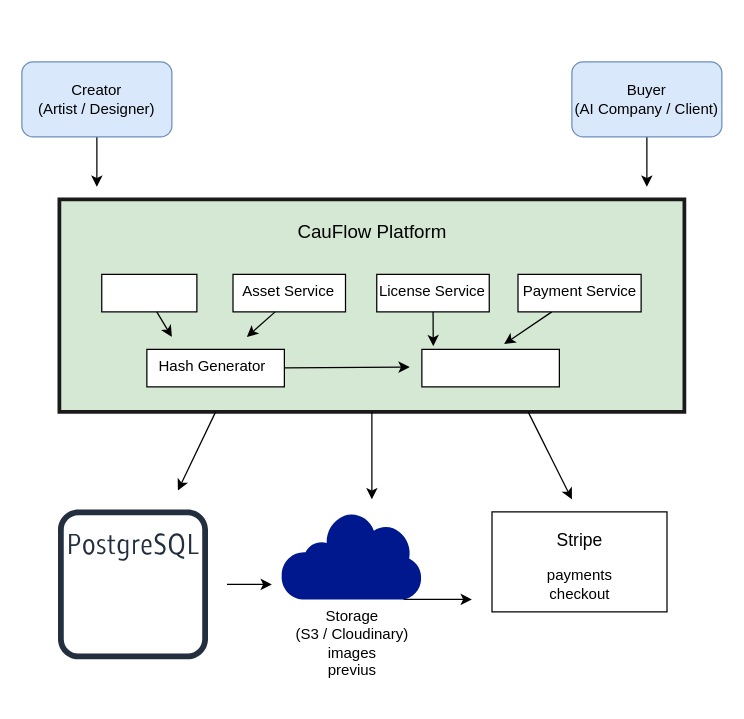
Some shapes in this 744 by 719 pixel diagram are drawn without their labels. Each missing label, with the box of its shape:
Auth Service: (100, 273, 197, 312)
Transaction Service: (421, 348, 559, 387)
user assets licenses transactions: (38, 489, 227, 678)
